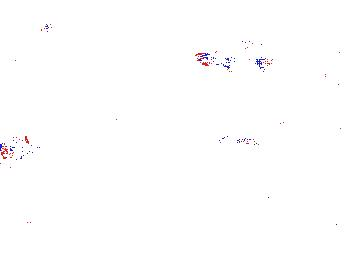X-ray fish: (310, 202, 321, 228)
red belly glassfish: (217, 133, 260, 151), (233, 38, 266, 52), (38, 14, 54, 39)
redtail glassfish: (226, 103, 306, 132), (195, 51, 272, 77), (184, 27, 266, 50), (259, 35, 321, 58), (332, 42, 346, 62)
